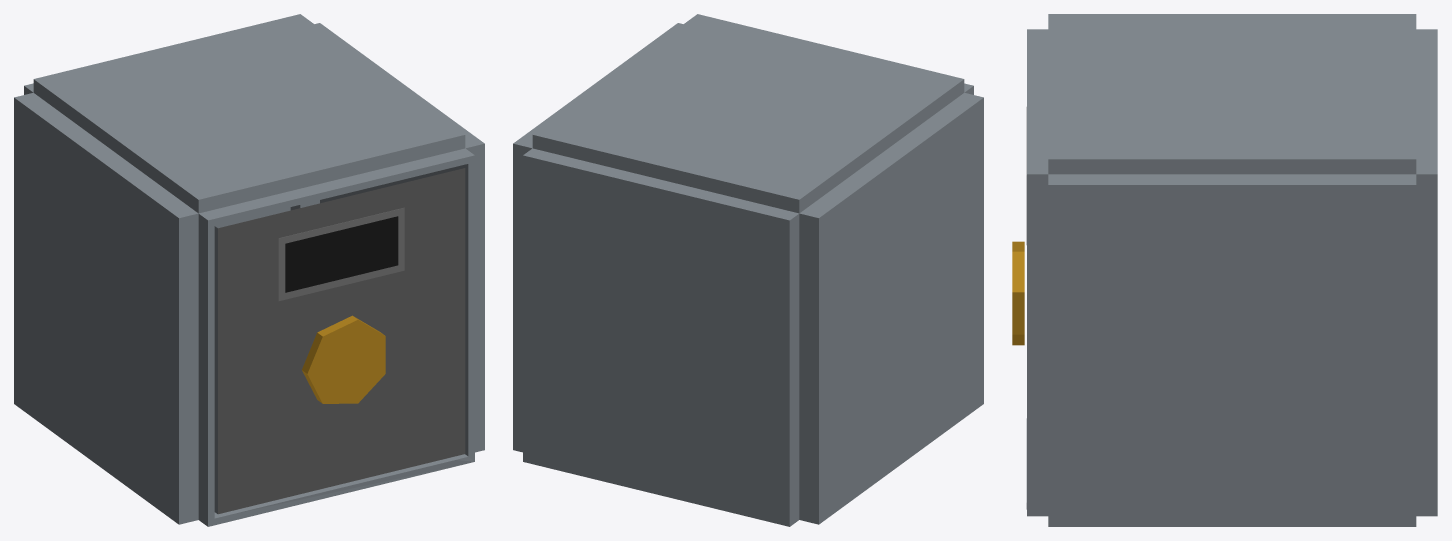
The model's file is Safe Vault.FBX.
The picture shows the model from 3 angles, left to right: view 1: azimuth 30°, elevation 25°; view 2: azimuth 150°, elevation 25°; view 3: azimuth 270°, elevation 25°; orthographic projection. The views are drawn at different scales.
Visible parts, largest first — view 1: Box001; view 2: Box001; view 3: Box001.
Boxes of the visible parts, left/top/right/bottom form: Box001: left=14, top=14, right=484, bottom=526; Box001: left=513, top=14, right=983, bottom=526; Box001: left=1012, top=14, right=1437, bottom=526.
Bounding box in the file's own units: 0.47 × 0.47 × 0.5076.
